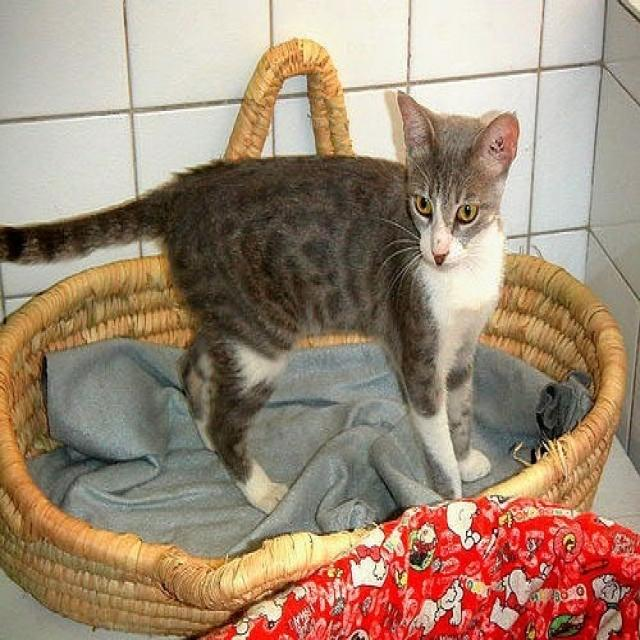cat: (0, 110, 527, 510)
